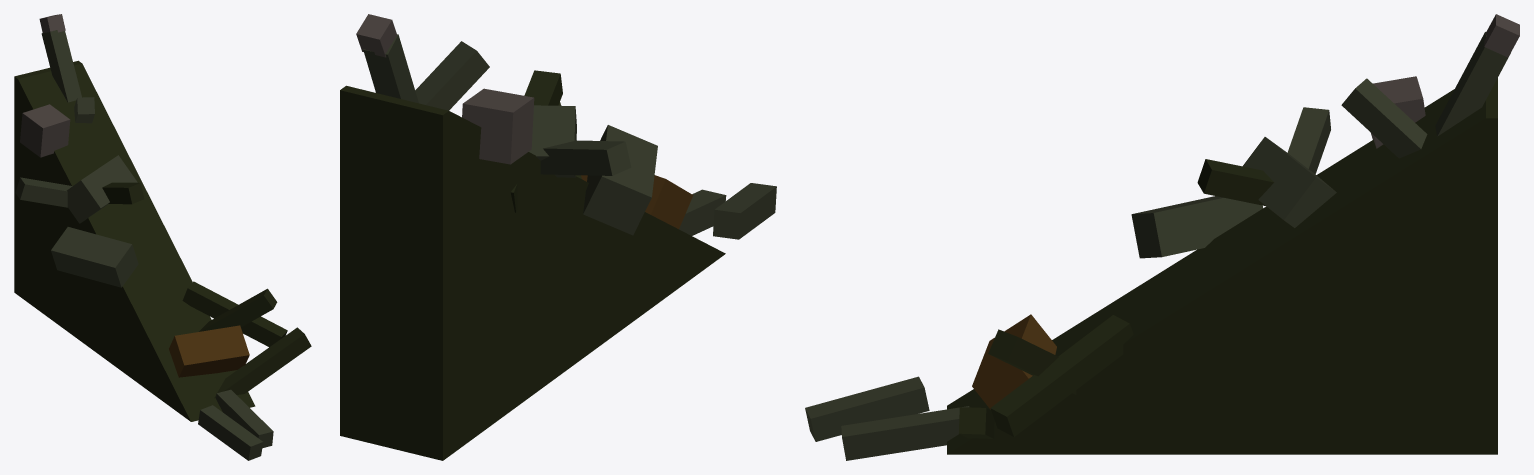
File: SM_PilaZombi_Altura3_s0_LOD1.fbx
3 views of the same model, side by side, from view 1: azimuth 30°, elevation 25°; view 2: azimuth 150°, elevation 25°; view 3: azimuth 270°, elevation 25° (orthographic). The views are drawn at different scales.
Visible parts, largest first — view 1: SM_pila_zombis_v2_LOD1; view 2: SM_pila_zombis_v2_LOD1; view 3: SM_pila_zombis_v2_LOD1.
Part boxes in pixels (x1,y1,x2,y2): SM_pila_zombis_v2_LOD1: (14, 14, 311, 460); SM_pila_zombis_v2_LOD1: (340, 14, 776, 460); SM_pila_zombis_v2_LOD1: (805, 14, 1519, 460).
Bounding box in the file's own units: 1.47 × 2.16 × 3.22.
